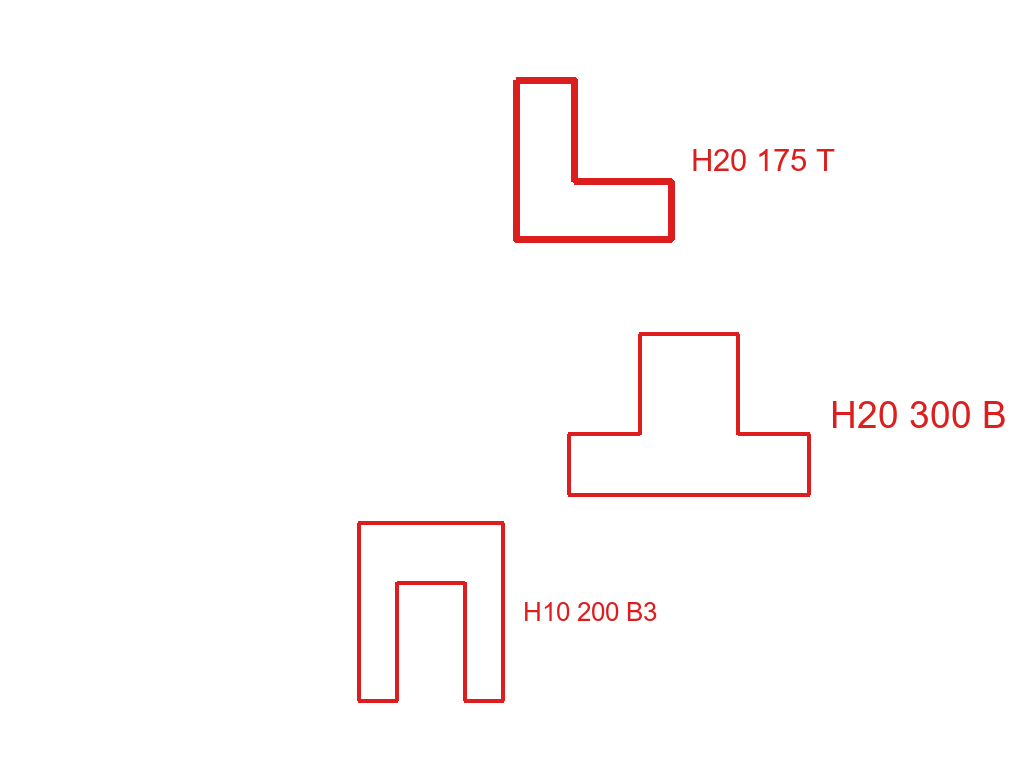shape: (564, 331, 814, 499), (354, 519, 507, 704), (511, 75, 677, 245)
text: (828, 399, 1009, 430), (689, 147, 837, 173), (521, 600, 659, 623)
